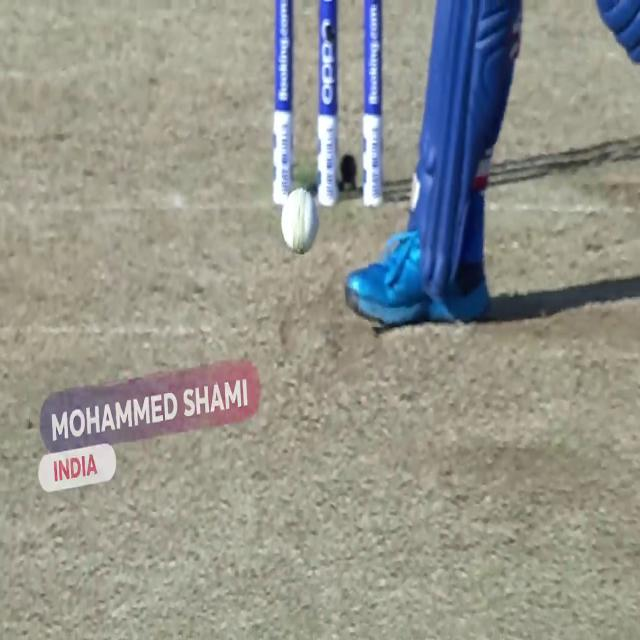ball: (280, 187, 320, 254)
